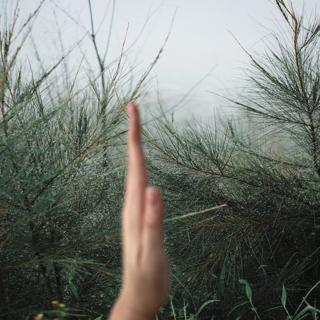Right: (93, 91, 186, 303)
